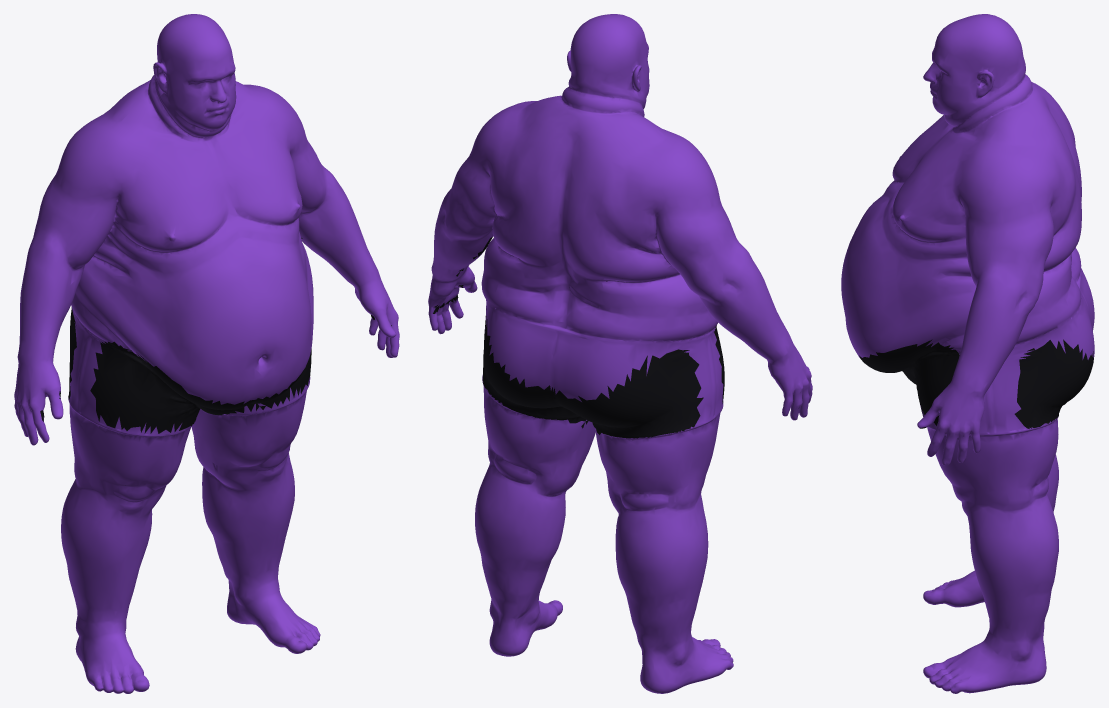
The model's file is zen_m_b11_d1_40000.glb.
The picture shows the model from 3 angles, left to right: view 1: azimuth 30°, elevation 25°; view 2: azimuth 150°, elevation 25°; view 3: azimuth 270°, elevation 25°; orthographic projection.
Visible parts, largest first — view 1: mesh_node; view 2: mesh_node; view 3: mesh_node.
Part boxes in pixels (left/top/right/bottom): mesh_node: left=14, top=14, right=399, bottom=693; mesh_node: left=428, top=14, right=812, bottom=693; mesh_node: left=841, top=14, right=1094, bottom=693.
Size of the model in its own units: 1.07 by 1.75 by 0.6417.
